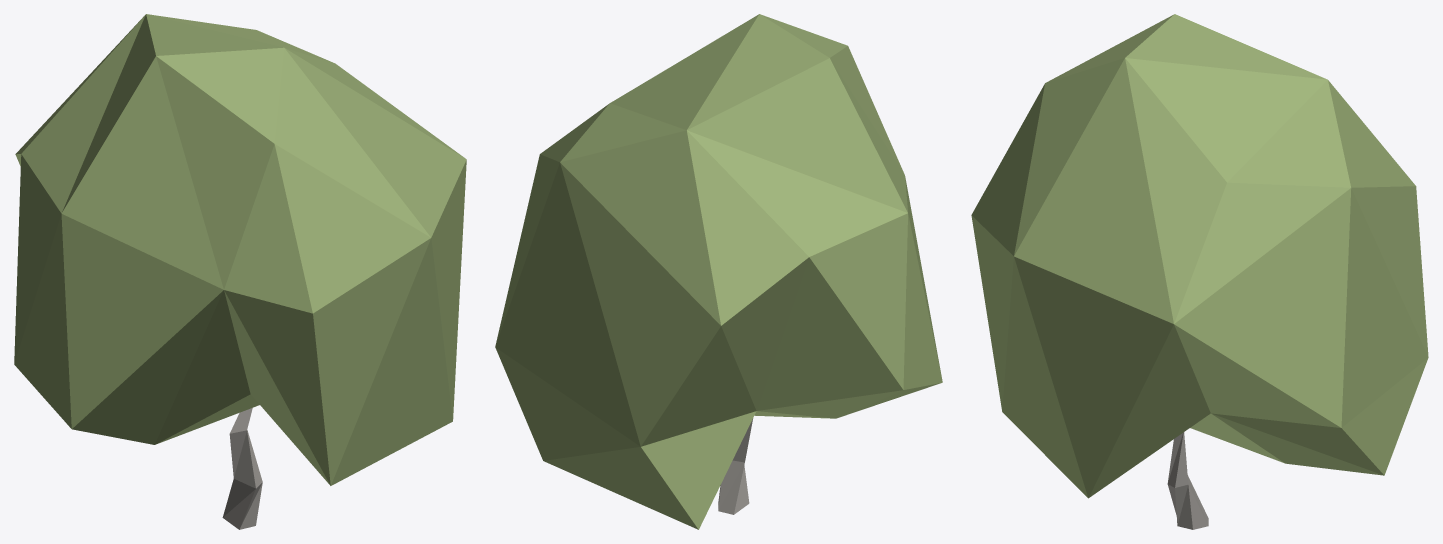
The model's file is QuercusRubra.glb.
3 views of the same model, side by side, from view 1: azimuth 30°, elevation 25°; view 2: azimuth 150°, elevation 25°; view 3: azimuth 270°, elevation 25° (orthographic). The views are drawn at different scales.
Visible parts, largest first — view 1: Crown, Trunk; view 2: Crown, Trunk; view 3: Crown, Trunk.
Part boxes in pixels (<box>): Crown: <box>14,14,466,485</box>; Trunk: <box>222,408,262,529</box>; Crown: <box>495,14,942,529</box>; Trunk: <box>718,418,753,514</box>; Crown: <box>971,14,1428,498</box>; Trunk: <box>1167,432,1208,529</box>.
Bounding box in the file's own units: 17.67 × 20.01 × 17.69.
